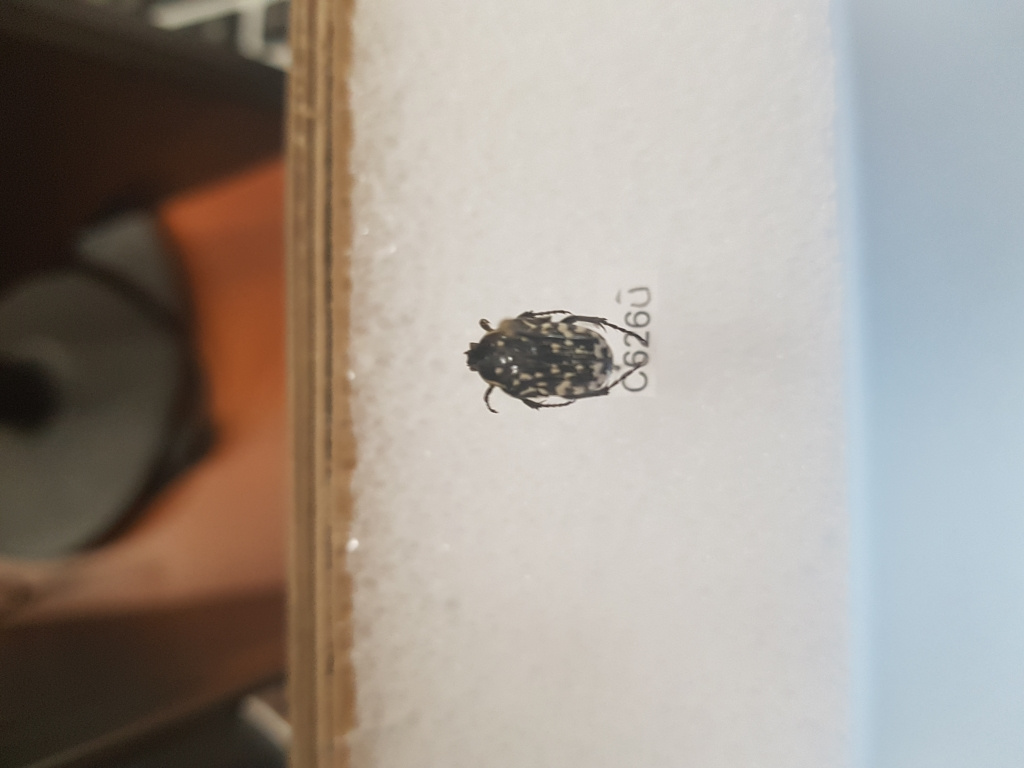Oxythyrea_funesta: (462, 300, 647, 413)
